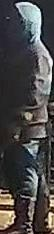vest: (4, 43, 53, 148)
